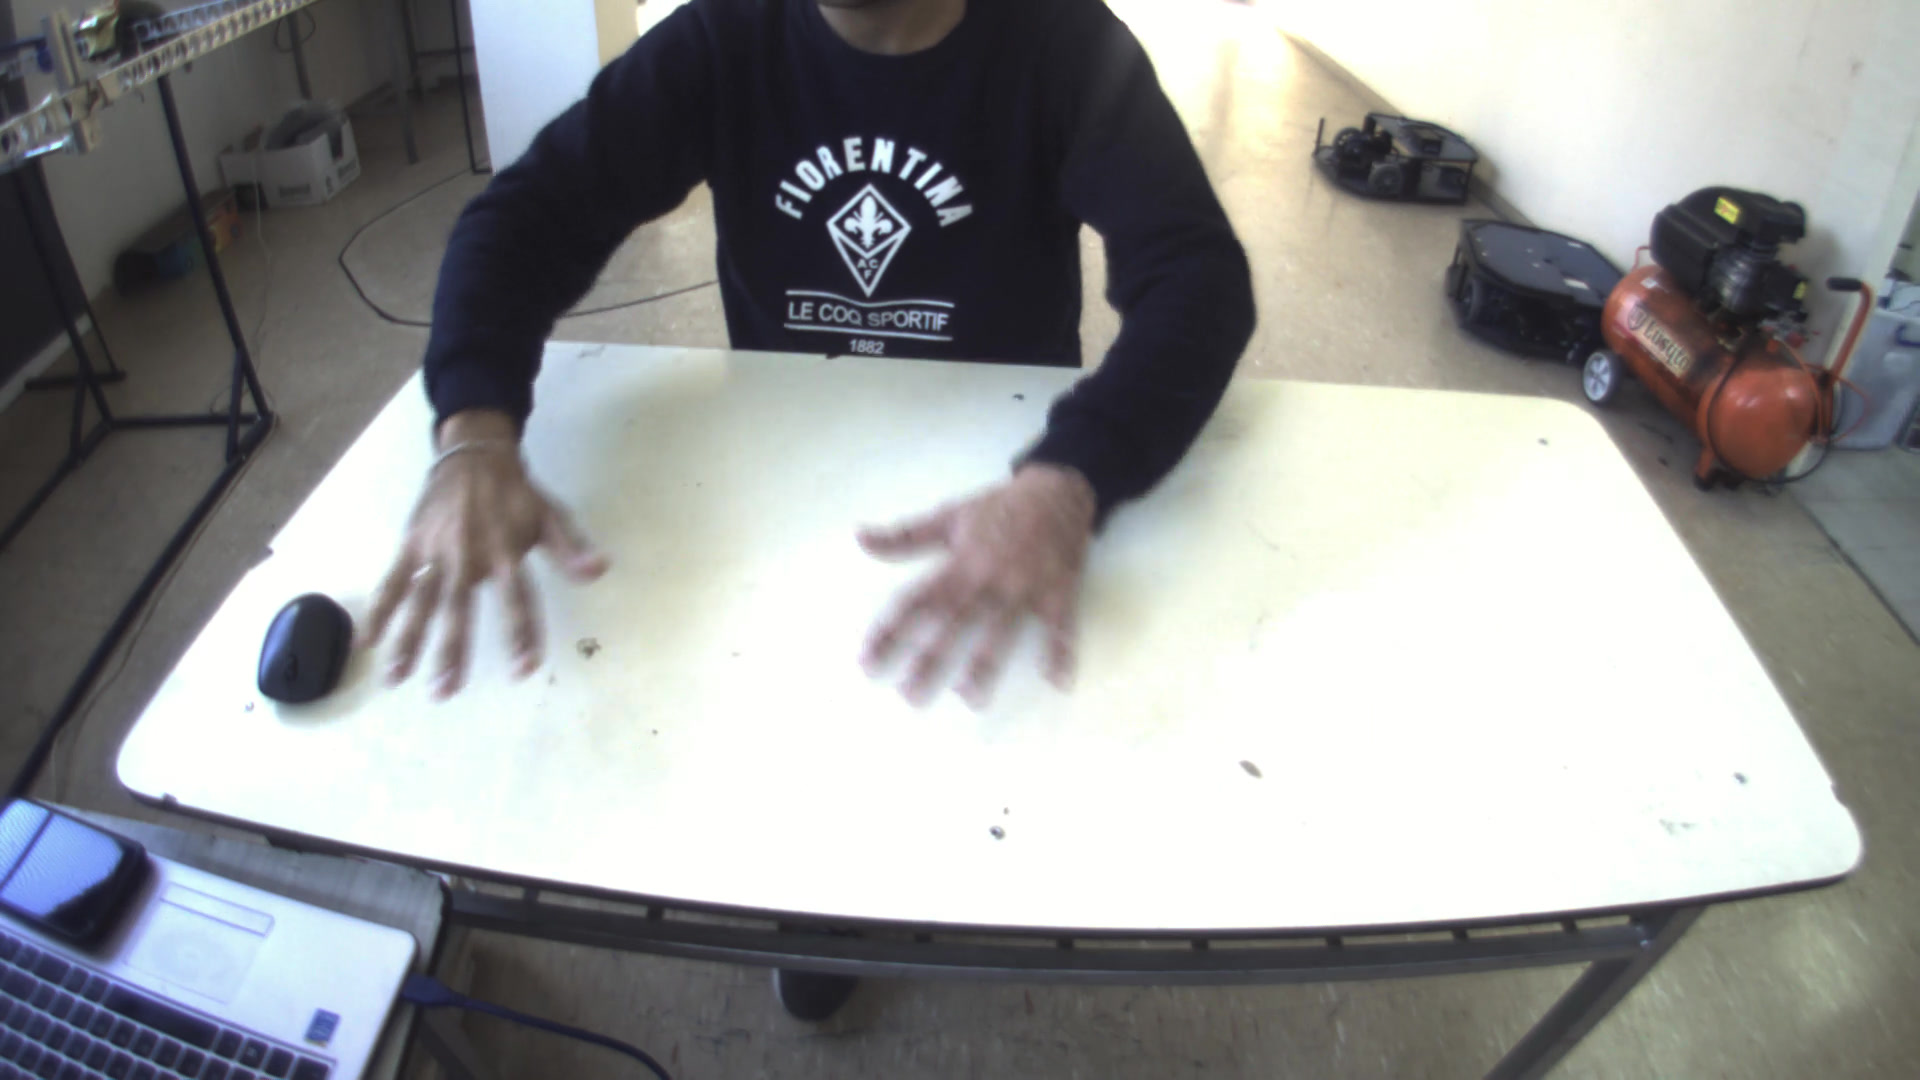hand: (338, 429, 615, 698), (840, 454, 1109, 716)
